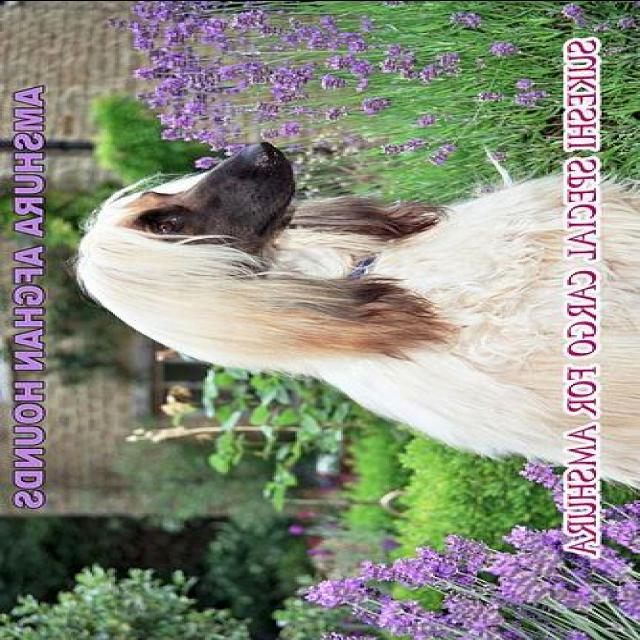afghan_hound: (76, 136, 638, 490)
